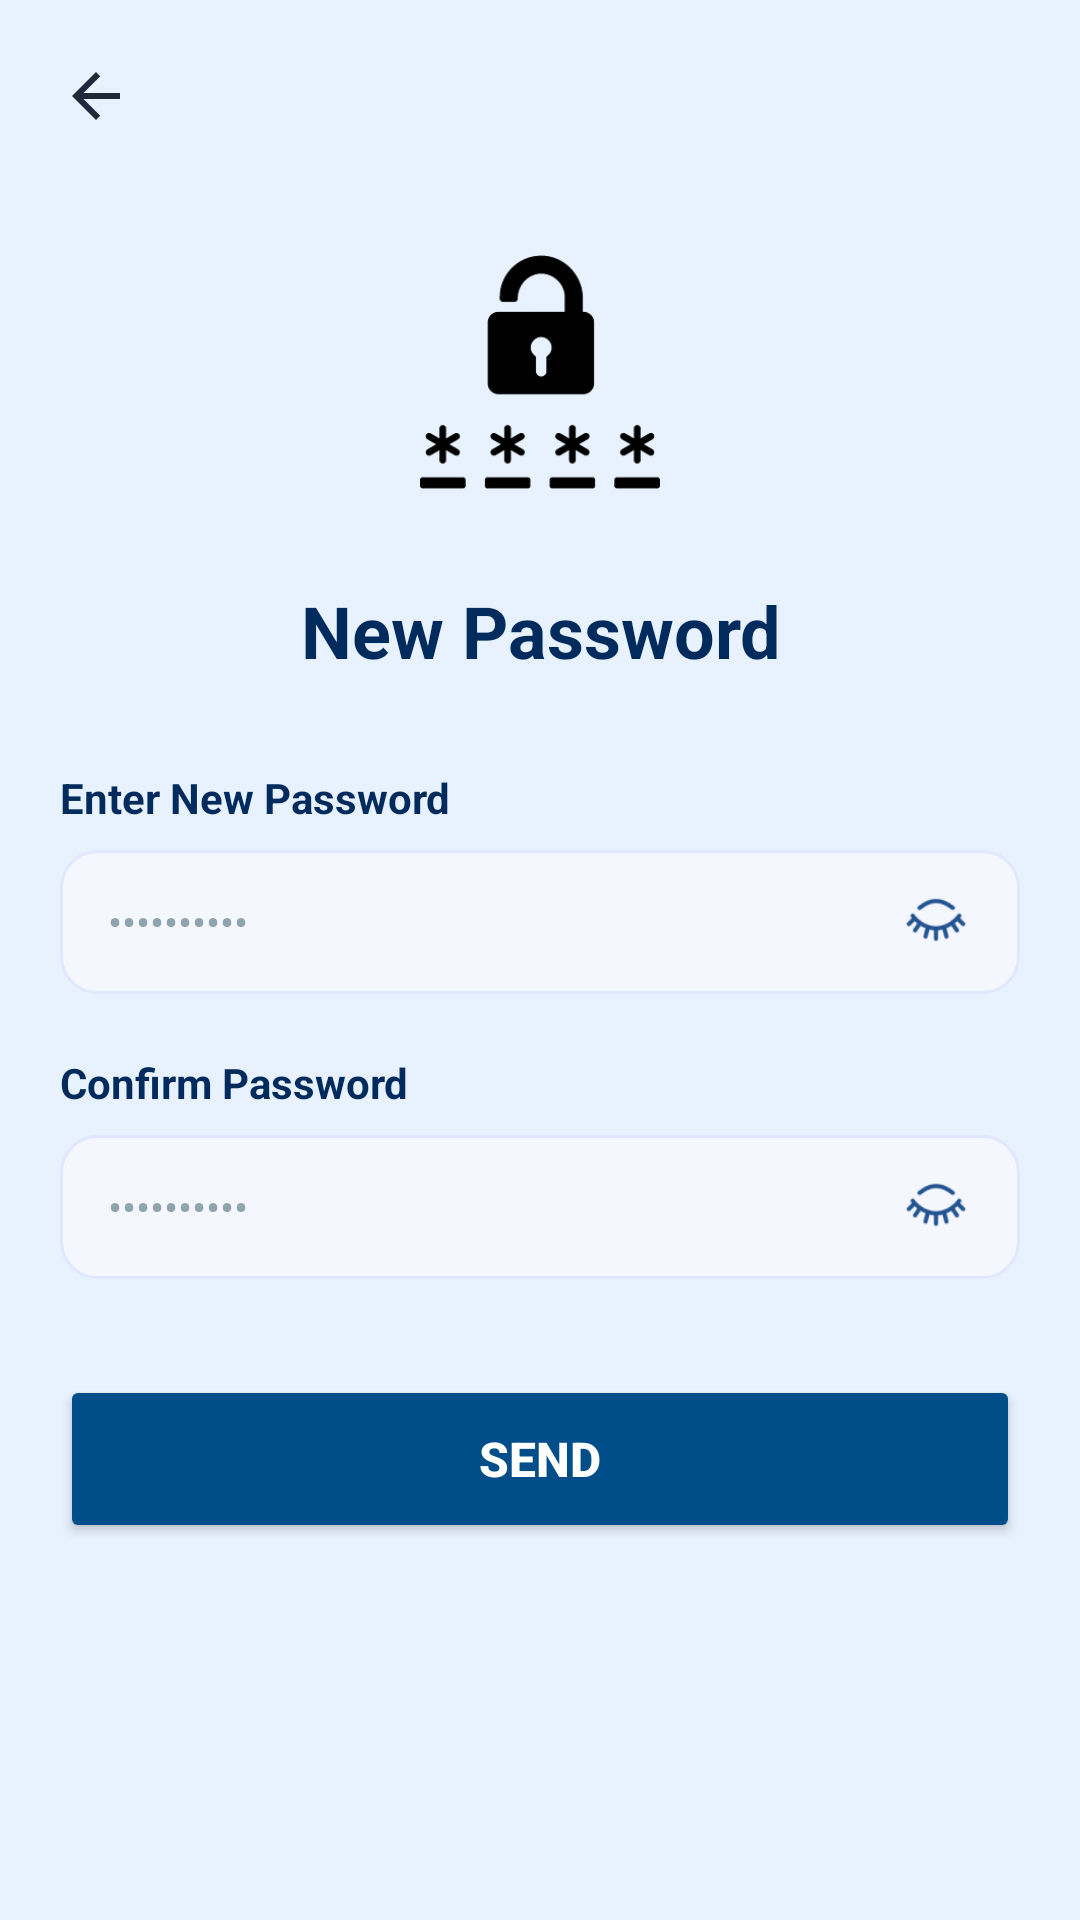

Icon click points for this 1080w x 1920h phone screenshot, format (x,y):
Back: (96,96)
Lock Icon: (540,372)
Toggle Password: (936,920), (936,1205)
